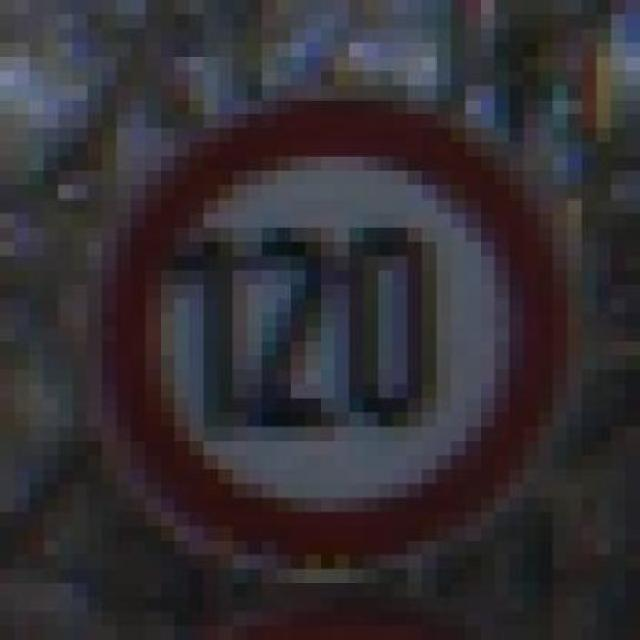forb_speed_over_120: (106, 103, 554, 560)
